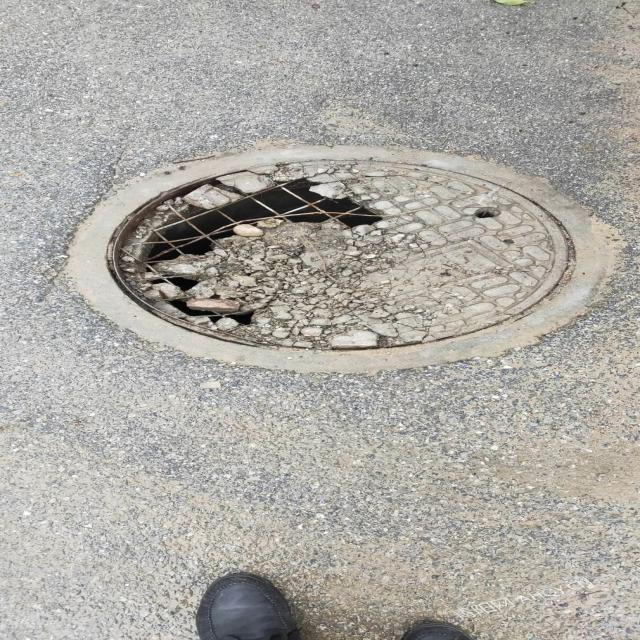Faulty: (67, 147, 606, 376)
